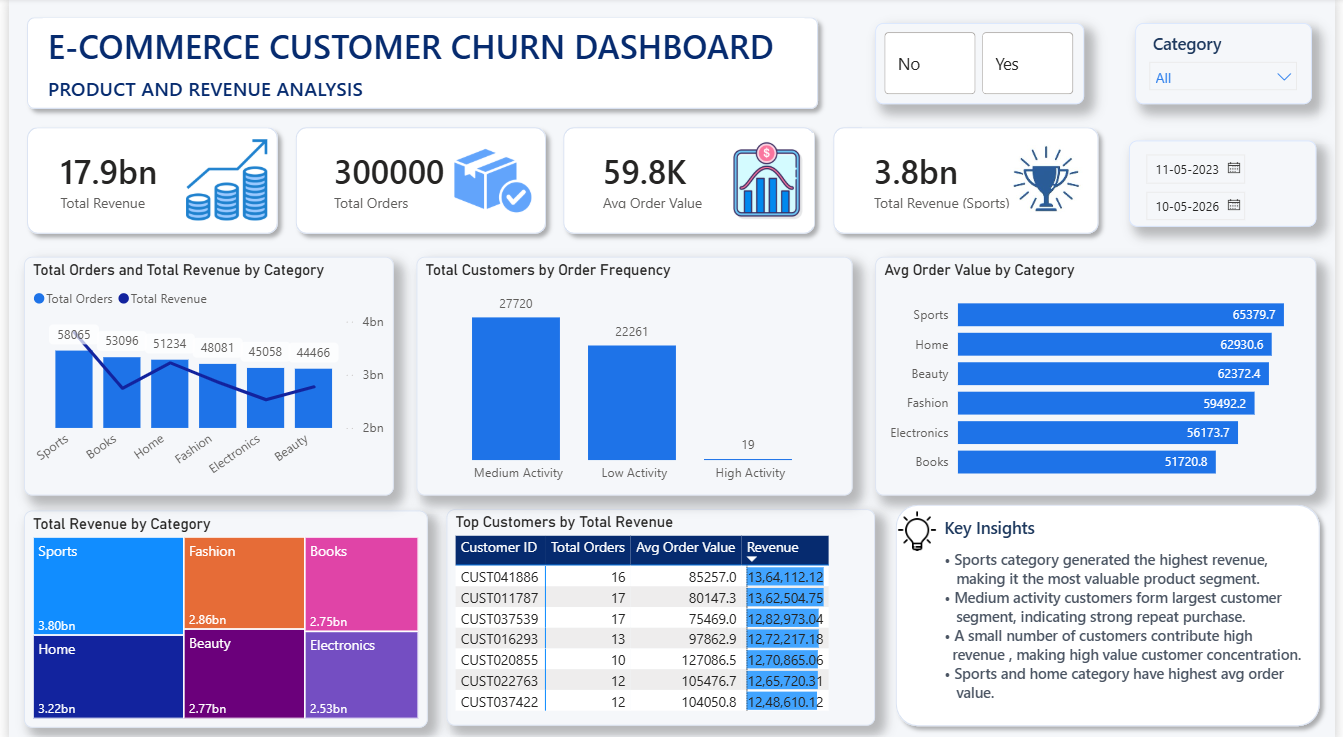

The dashboard page shown, as its layout file describes it:
{"tool":"powerbi","page":{"name":"Product and Revenue Analysis","canvas":[1280,720],"ordinal":3},"visuals":[{"type":"shape","box":[786.6,115.8,273.9,120.6],"z":0},{"type":"treemap","fields":{"Group":["public products.category"],"Values":["Sum(public transactions.amount)"]},"box":[14.5,494.6,389.7,209.9],"z":1000},{"type":"lineClusteredColumnComboChart","fields":{"Category":["public products.category"],"Y":["CountNonNull(public transactions.transaction_id)"],"Y2":["Measure Table.Total Revenue"]},"box":[14.5,249.7,357.1,230.4],"z":2000},{"type":"clusteredBarChart","fields":{"Category":["public products.category"],"Y":["Measure Table.Avg_Order_Value"]},"box":[836.1,249.7,425.9,230.4],"z":3000},{"type":"pivotTable","title":"Top Customers by Total Revenue","fields":{"Rows":["public transactions.customer_id"],"Values":["Count(public transactions.transaction_id)","Measure Table.Avg_Order_Value","Sum(public transactions.amount)"]},"box":[422.3,493.4,413.8,208.7],"z":4000},{"type":"shape","box":[8.6,9.8,781.4,106.4],"z":5000},{"type":"textbox","box":[33,19.6,734.9,69.7],"z":6000},{"type":"textbox","box":[33,69.7,734.9,35.5],"z":7000},{"type":"shape","box":[8.4,115.8,260,120.6],"z":8000},{"type":"shape","box":[267.4,115.8,259.4,120.6],"z":9000},{"type":"shape","box":[525.8,115.8,260.6,120.6],"z":10000},{"type":"cardVisual","fields":{"Data":["Count(public transactions.transaction_id)"]},"box":[284.7,130.3,226.8,90.5],"z":11000},{"type":"cardVisual","fields":{"Data":["Measure Table.Total Revenue"]},"box":[20.5,130.3,234,90.5],"z":12000},{"type":"cardVisual","fields":{"Data":["Measure Table.Avg_Order_Value"]},"box":[544.1,130.3,232.8,90.5],"z":13000},{"type":"cardVisual","fields":{"Data":["Measure Table.Total Revenue (Sports)"]},"box":[805.9,130.3,231.6,90.5],"z":14000},{"type":"slicer","fields":{"Values":["public products.category"]},"box":[1087,24.1,170.1,78.4],"z":15000},{"type":"slicer","fields":{"Values":["public transactions.order_date"]},"box":[1081,137.5,181,83.2],"z":16000},{"type":"clusteredColumnChart","fields":{"Category":["public vw_customer_orders.order_frequency_group"],"Y":["Count(public vw_customer_orders.customer_id)"]},"box":[393.3,249.7,421,230.4],"z":17000},{"type":"advancedSlicerVisual","fields":{"Values":["public churn_status.status"]},"box":[836.1,24.1,201.5,78.4],"z":18000},{"type":"image","box":[165.3,136.3,89.3,78.4],"z":19000},{"type":"image","box":[687.7,137.5,89.3,77.2],"z":20000},{"type":"image","box":[422.3,137.5,89.3,77.2],"z":21000},{"type":"image","box":[963.9,136.3,82,77.2],"z":22000},{"type":"shape","box":[846.9,480.2,427.1,231.6],"z":23000},{"type":"image","box":[846.9,494.6,59.1,41],"z":24000},{"type":"textbox","box":[897.6,494.6,336.6,41],"z":25000},{"type":"textbox","box":[897.6,527.2,359.5,166.5],"z":26000}]}

Visuals, with their boxes in screenshot pixels (x1, y1, x2, y2), scaled from the page's 1280x720 canvas onto the 1343x737 screenshot:
shape: bbox(825, 119, 1113, 242)
treemap - public products.category x Sum(public transactions.amount): bbox(15, 506, 424, 721)
lineClusteredColumnComboChart - public products.category x CountNonNull(public transactions.transaction_id): bbox(15, 256, 390, 491)
clusteredBarChart - public products.category x Measure Table.Avg_Order_Value: bbox(877, 256, 1324, 491)
"Top Customers by Total Revenue" pivotTable: bbox(443, 505, 877, 719)
shape: bbox(9, 10, 829, 119)
textbox: bbox(35, 20, 806, 91)
textbox: bbox(35, 71, 806, 108)
shape: bbox(9, 119, 282, 242)
shape: bbox(281, 119, 553, 242)
shape: bbox(552, 119, 825, 242)
cardVisual - Count(public transactions.transaction_id): bbox(299, 133, 537, 226)
cardVisual - Measure Table.Total Revenue: bbox(22, 133, 267, 226)
cardVisual - Measure Table.Avg_Order_Value: bbox(571, 133, 815, 226)
cardVisual - Measure Table.Total Revenue (Sports): bbox(846, 133, 1089, 226)
slicer - public products.category: bbox(1141, 25, 1319, 105)
slicer - public transactions.order_date: bbox(1134, 141, 1324, 226)
clusteredColumnChart - public vw_customer_orders.order_frequency_group x Count(public vw_customer_orders.customer_id): bbox(413, 256, 854, 491)
advancedSlicerVisual - public churn_status.status: bbox(877, 25, 1089, 105)
image: bbox(173, 140, 267, 220)
image: bbox(722, 141, 815, 220)
image: bbox(443, 141, 537, 220)
image: bbox(1011, 140, 1097, 219)
shape: bbox(889, 492, 1337, 729)
image: bbox(889, 506, 951, 548)
textbox: bbox(942, 506, 1295, 548)
textbox: bbox(942, 540, 1319, 710)
